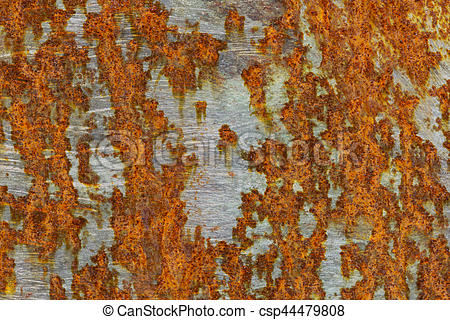rust: (280, 6, 446, 295), (5, 38, 90, 260), (103, 159, 222, 296), (111, 1, 177, 146)
